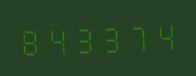eight: (17, 22, 43, 57)
four: (44, 21, 70, 56), (153, 18, 179, 53)
seven: (126, 19, 152, 54)
three: (99, 19, 125, 55), (72, 20, 98, 55)
